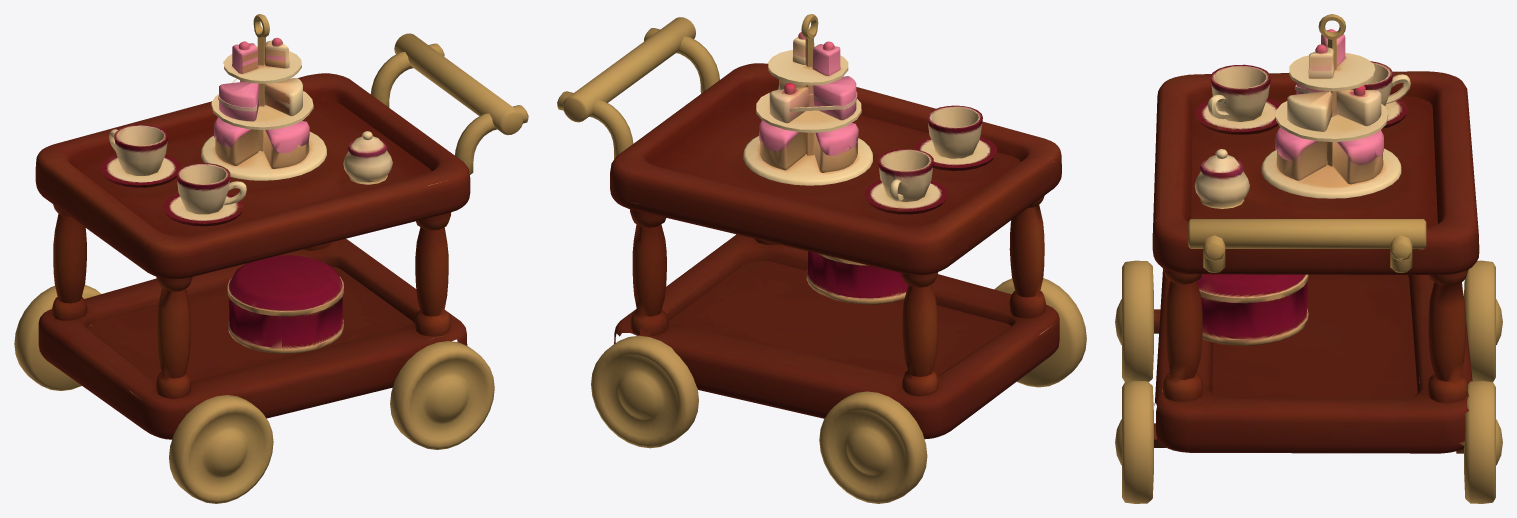
File: tea_trolley_v2.glb
3 views of the same model, side by side, from view 1: azimuth 30°, elevation 25°; view 2: azimuth 150°, elevation 25°; view 3: azimuth 270°, elevation 25° (orthographic). The views are drawn at different scales.
Visible parts, largest first — view 1: tea_trolley; view 2: tea_trolley; view 3: tea_trolley.
Boxes of the visible parts, left/top/right/bottom form: tea_trolley: left=14, top=14, right=528, bottom=503; tea_trolley: left=557, top=14, right=1086, bottom=503; tea_trolley: left=1115, top=14, right=1502, bottom=503.
Bounding box in the file's own units: 1.15 × 1.1 × 0.894.
Materials: 1 (1 with a texture image).
